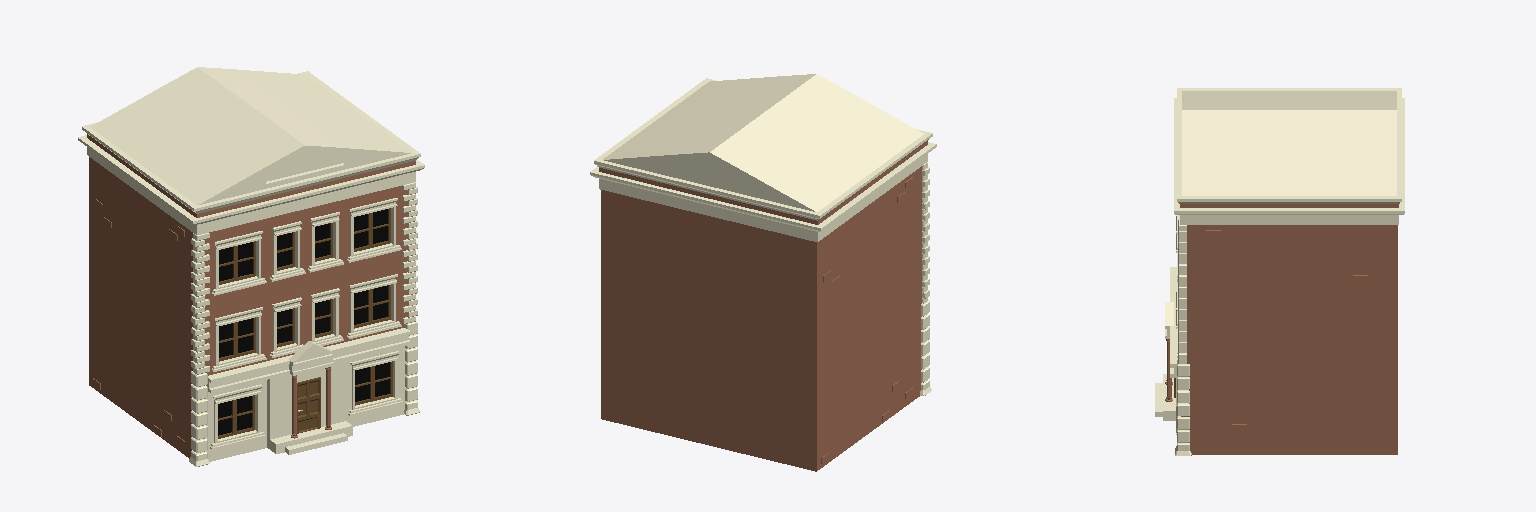
The picture shows the model from 3 angles: view 1: azimuth 30°, elevation 25°; view 2: azimuth 150°, elevation 25°; view 3: azimuth 270°, elevation 25°; orthographic projection.
Parts seen in each view (by area): view 1: Building3_Big_Cube.001; view 2: Building3_Big_Cube.001; view 3: Building3_Big_Cube.001.
Part boxes in pixels (left/top/right/bottom): Building3_Big_Cube.001: left=78, top=67, right=424, bottom=466; Building3_Big_Cube.001: left=590, top=74, right=936, bottom=471; Building3_Big_Cube.001: left=1155, top=88, right=1404, bottom=455.
Bounding box in the file's own units: 4.71 × 5.68 × 4.39.
1 materials, 1 textured.